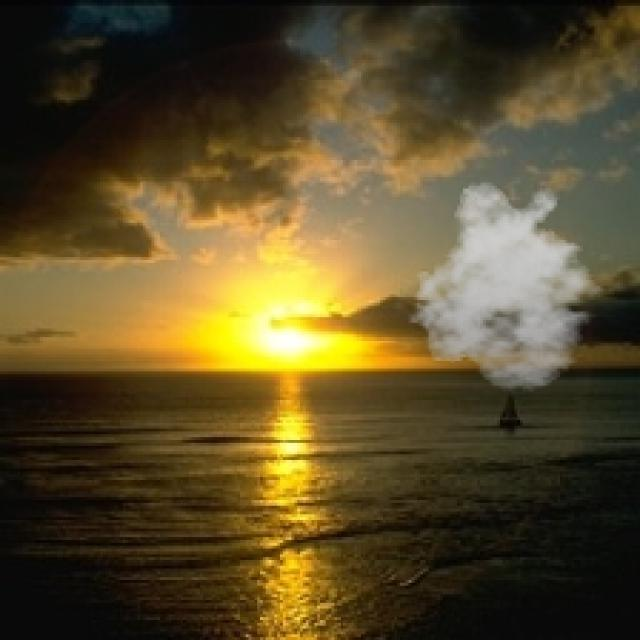Smoke: (403, 180, 614, 392)
